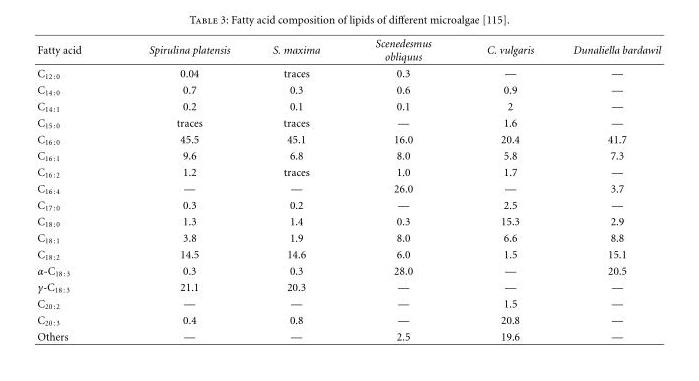table: (36, 37, 660, 342)
table column: (114, 37, 250, 342), (346, 37, 458, 342), (552, 37, 660, 342), (250, 37, 346, 342), (458, 37, 552, 342), (36, 37, 114, 342)
table column header: (36, 37, 660, 64)
table row: (36, 37, 660, 64), (36, 64, 660, 81), (36, 81, 660, 98), (36, 114, 660, 131), (36, 163, 660, 180), (36, 196, 660, 213), (36, 229, 660, 246), (36, 278, 660, 295), (36, 311, 660, 328), (36, 98, 660, 114), (36, 131, 660, 147), (36, 147, 660, 163), (36, 180, 660, 196), (36, 213, 660, 229), (36, 246, 660, 262), (36, 262, 660, 278), (36, 295, 660, 311), (36, 328, 660, 342)
